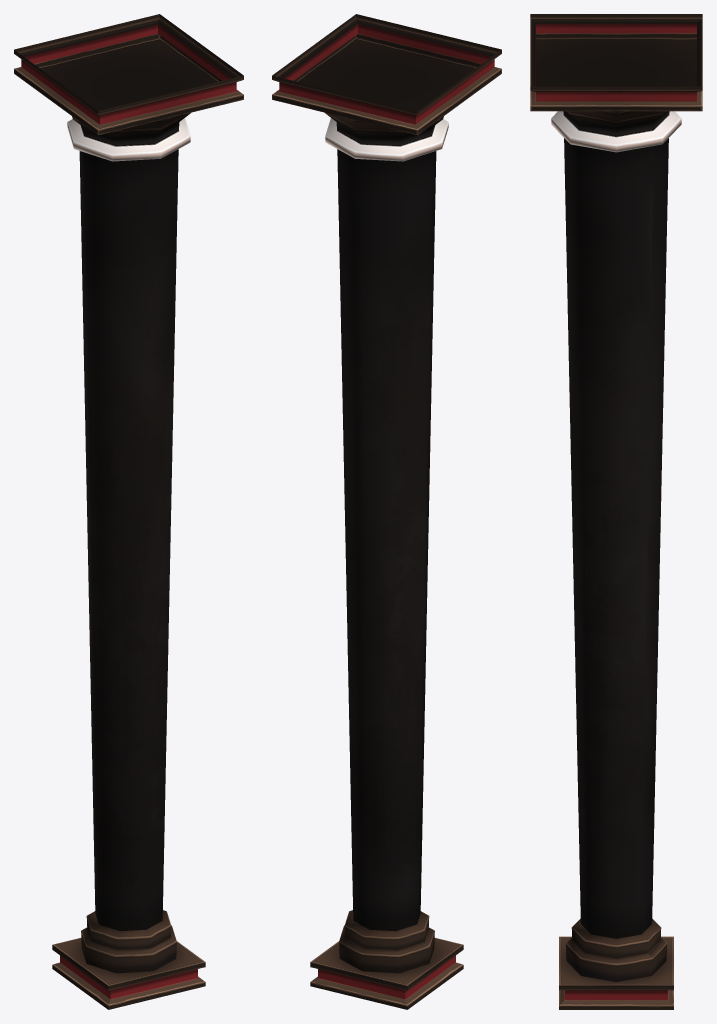
The model's file is em_column_atrium_tall.fbx.
The picture shows the model from 3 angles, left to right: view 1: azimuth 30°, elevation 25°; view 2: azimuth 150°, elevation 25°; view 3: azimuth 270°, elevation 25°; orthographic projection. The views are drawn at different scales.
Parts seen in each view (by area): view 1: em_column_atrium_tall; view 2: em_column_atrium_tall; view 3: em_column_atrium_tall.
Part boxes in pixels (x1=…): em_column_atrium_tall: x1=14, y1=14, x2=243, y2=1009; em_column_atrium_tall: x1=272, y1=14, x2=501, y2=1009; em_column_atrium_tall: x1=530, y1=14, x2=702, y2=1009.
Size of the model in its own units: 3 by 18 by 3.
